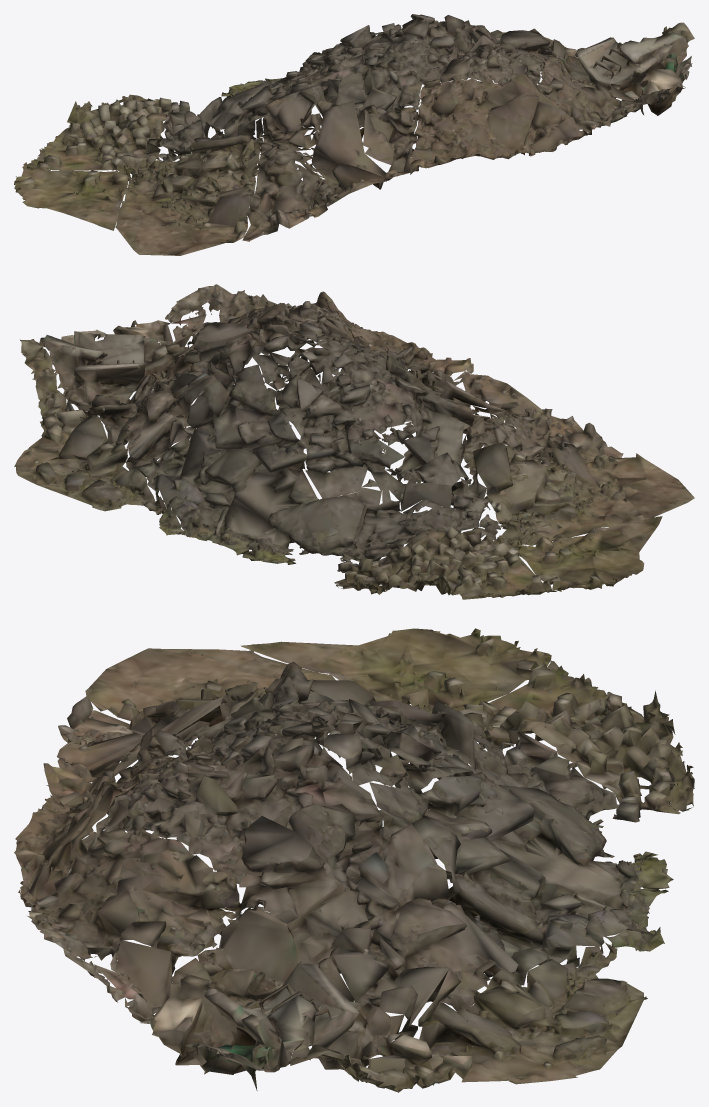
File: construction_rubble.glb
3 renders of one model, top to bottom at view 1: azimuth 30°, elevation 25°; view 2: azimuth 150°, elevation 25°; view 3: azimuth 270°, elevation 25°, orthographic. The views are drawn at different scales.
Parts seen in each view (by area): view 1: Object_2, Object_4, Object_3; view 2: Object_3, Object_2, Object_4; view 3: Object_3, Object_2, Object_4.
Part boxes in pixels (x1,y1,x2,y2): Object_2: (199, 15, 565, 241); Object_4: (27, 22, 694, 255); Object_3: (14, 14, 692, 230); Object_3: (40, 291, 662, 591); Object_2: (91, 292, 623, 535); Object_4: (14, 284, 694, 599); Object_3: (14, 628, 673, 1090); Object_2: (57, 661, 664, 1037); Object_4: (27, 648, 694, 1092).
Size of the model in its own units: 42.64 by 8.13 by 24.25.
1 material, 1 textured.
